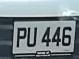4: (40, 24, 52, 50), (51, 23, 62, 50)
6: (62, 24, 73, 49)
P: (16, 24, 28, 50)
U: (27, 25, 38, 49)
